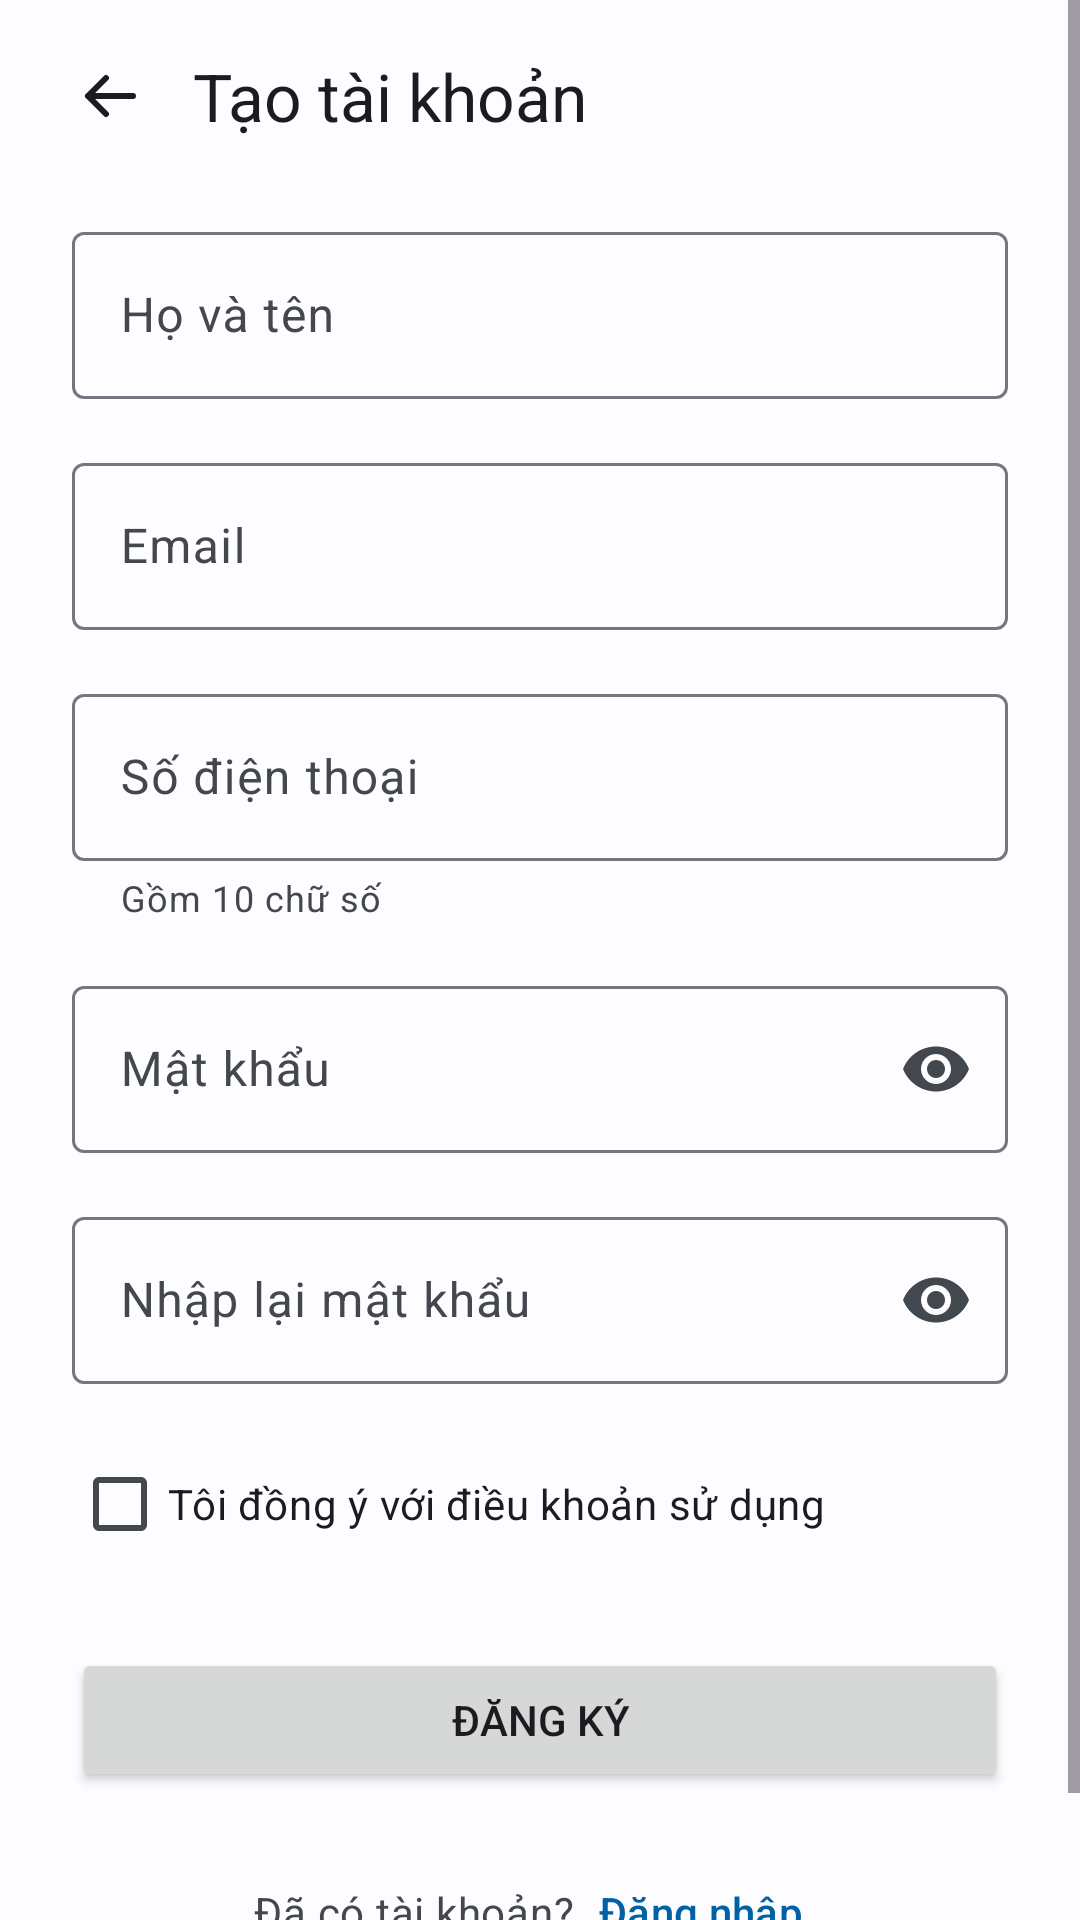

Icons on this 1080 × 1920 Android screen, each with the point to tap as [x,y]:
Quay lại: [110,96]
